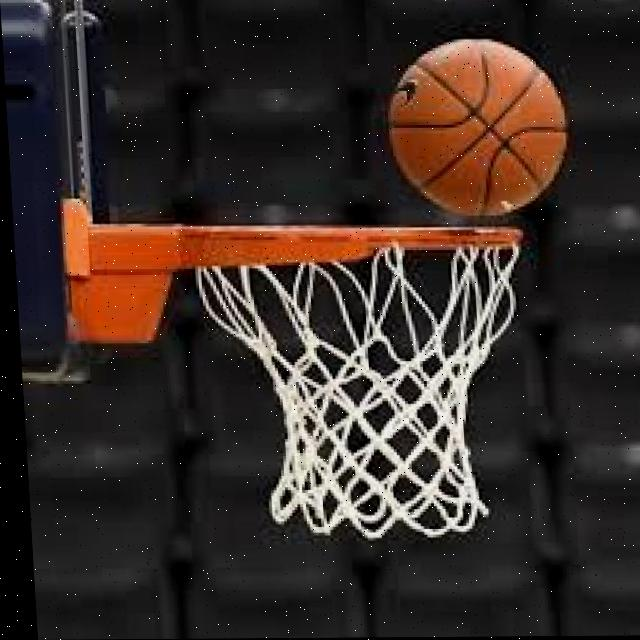Basketball: (385, 37, 574, 215)
